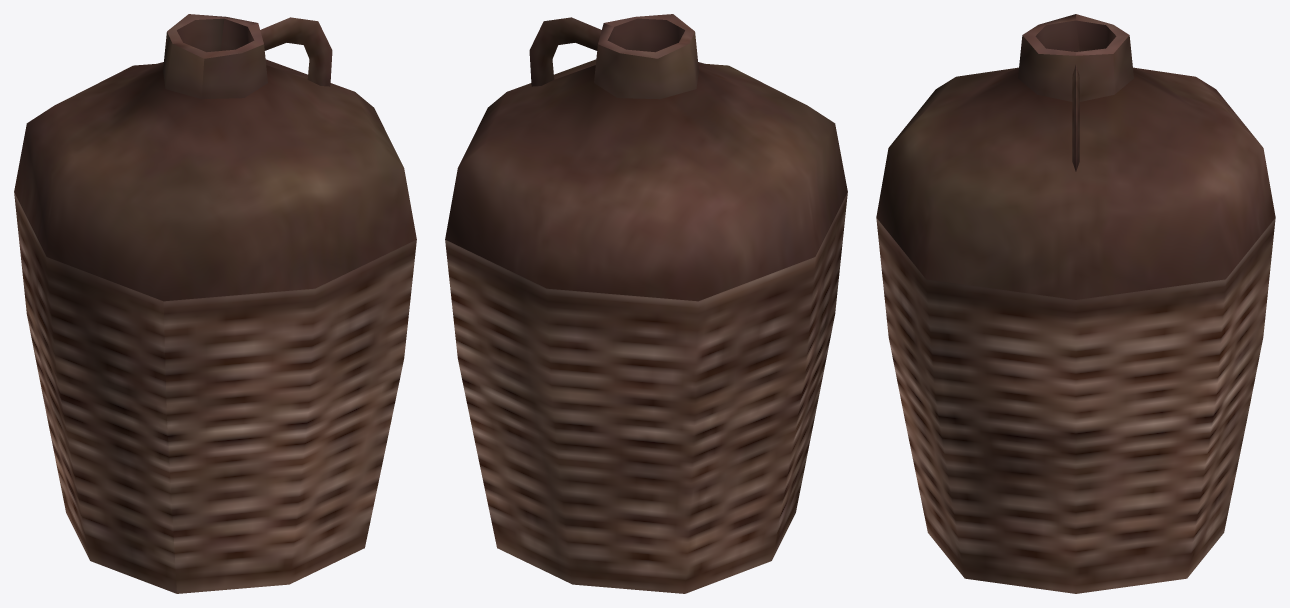
File: winebottle_A.fbx
The picture shows the model from 3 angles, left to right: view 1: azimuth 30°, elevation 25°; view 2: azimuth 150°, elevation 25°; view 3: azimuth 270°, elevation 25°; orthographic projection.
Visible parts, largest first — view 1: WineBottle_bottom, WineBottle_top, Wine_Bottle_handle; view 2: WineBottle_bottom, WineBottle_top, Wine_Bottle_handle; view 3: WineBottle_bottom, WineBottle_top, Wine_Bottle_handle.
Part boxes in pixels (bbox=[...]): WineBottle_bottom: bbox=[14, 192, 416, 593]; WineBottle_top: bbox=[14, 14, 416, 301]; Wine_Bottle_handle: bbox=[260, 17, 332, 86]; WineBottle_bottom: bbox=[445, 192, 847, 593]; WineBottle_top: bbox=[445, 14, 847, 301]; Wine_Bottle_handle: bbox=[529, 17, 601, 86]; WineBottle_bottom: bbox=[876, 218, 1275, 593]; WineBottle_top: bbox=[876, 14, 1275, 299]; Wine_Bottle_handle: bbox=[1072, 65, 1079, 171].
Size of the model in its own units: 73.25 by 103 by 74.88.
Materials: 1 (1 with a texture image).
